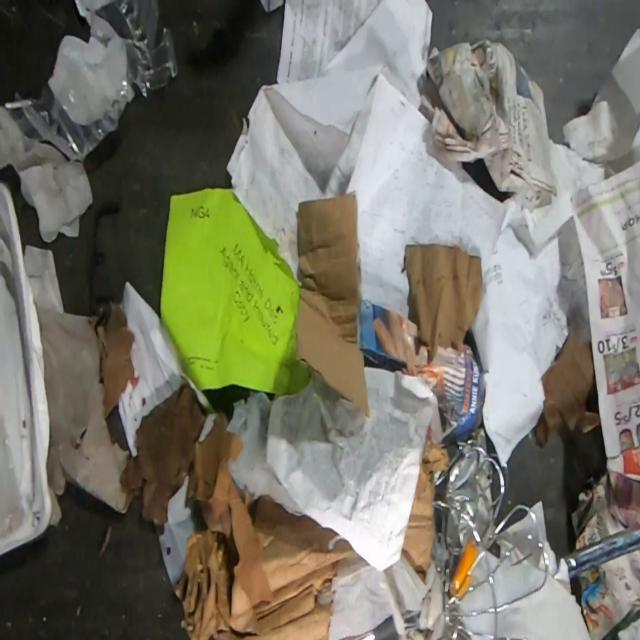cardboard: (171, 411, 359, 639), (294, 190, 370, 419), (401, 441, 450, 585)
metal: (430, 428, 550, 640), (563, 527, 639, 579)
rigid_plastic: (3, 0, 180, 161), (0, 182, 52, 558)
